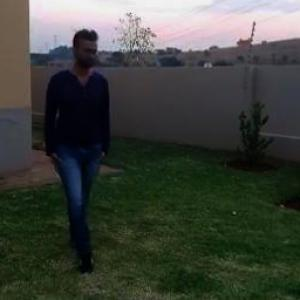follow: (42, 18, 131, 282)
